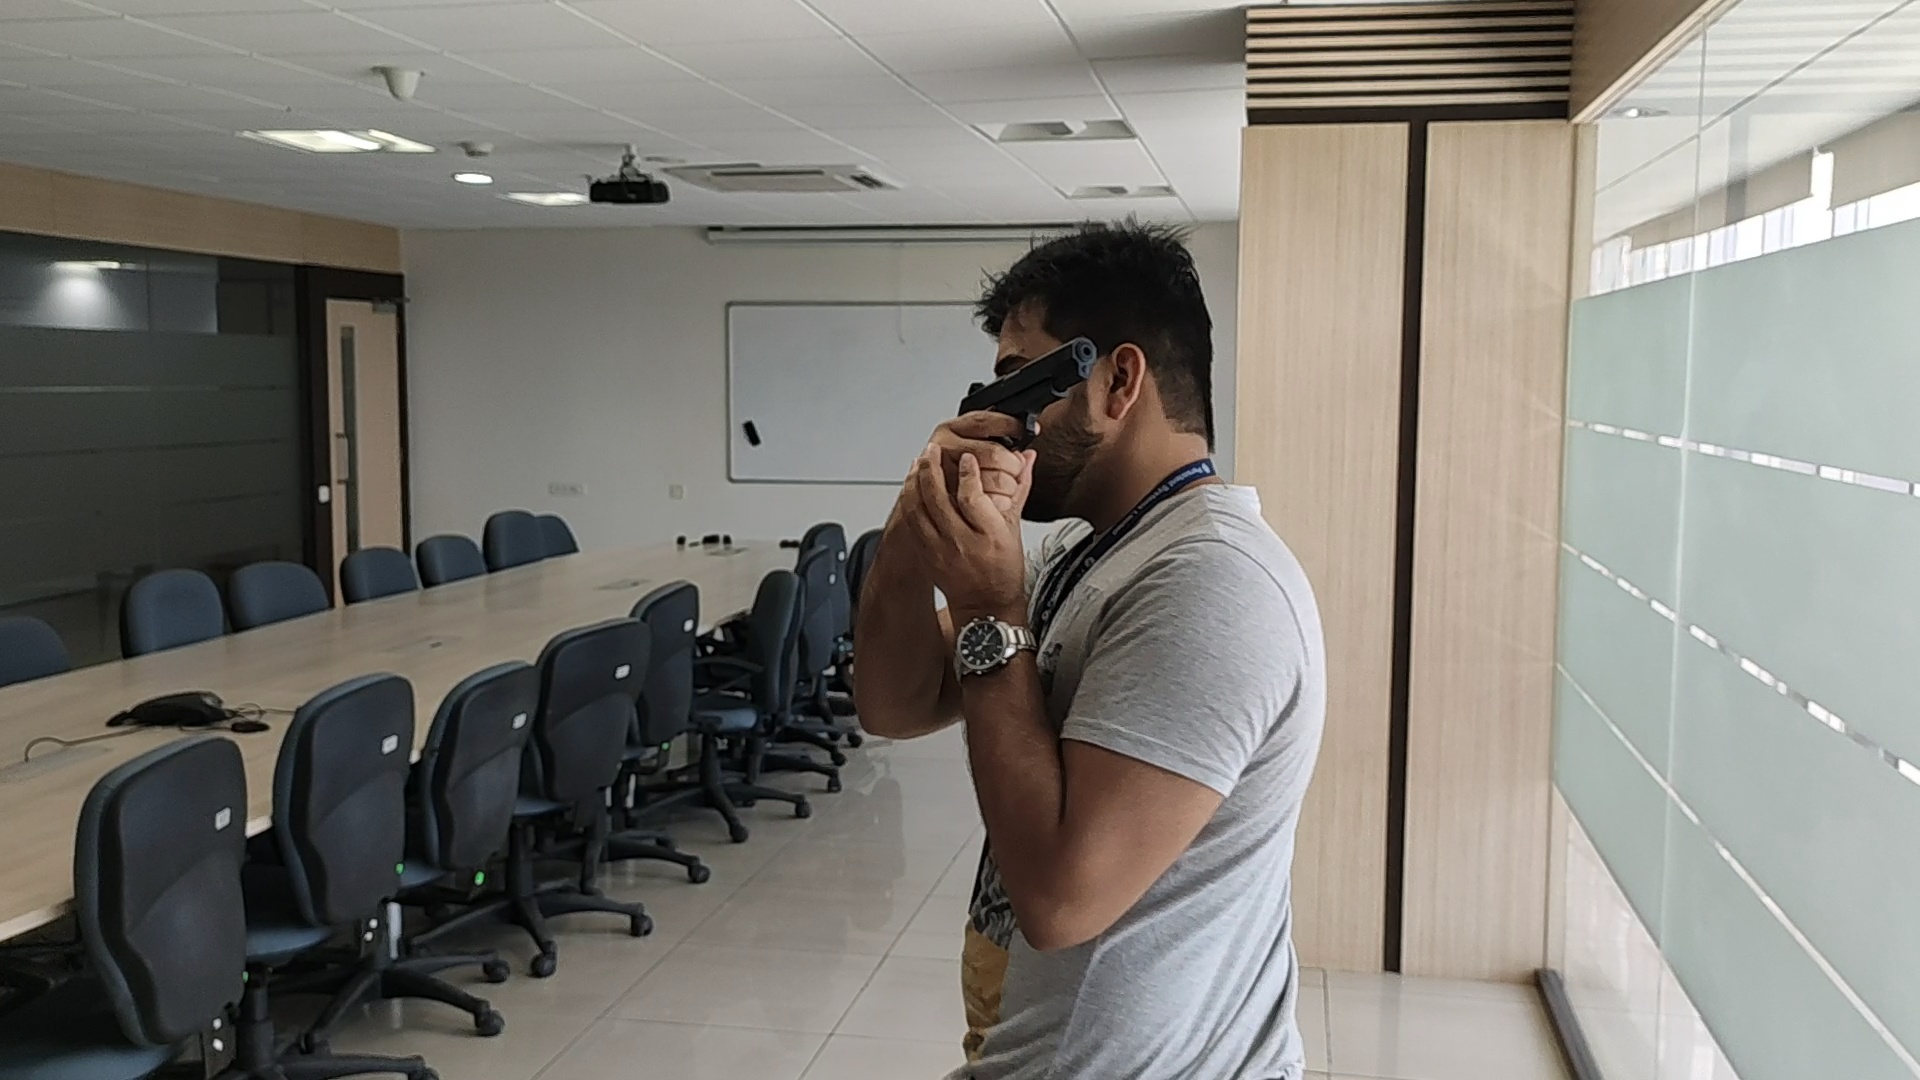gun: (961, 339, 1092, 411)
